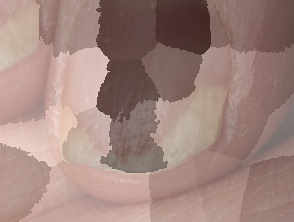Nail_psoriasis: (50, 0, 242, 194)
